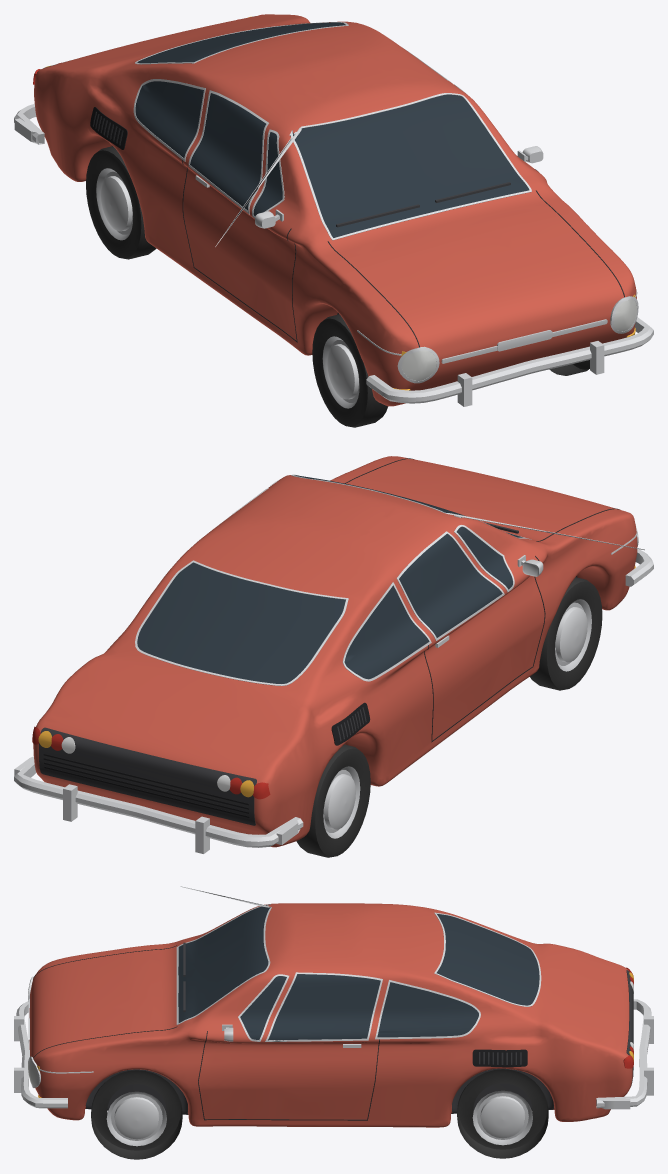
File: skoda110r.glb
The picture shows the model from 3 angles, top to bottom: view 1: azimuth 30°, elevation 25°; view 2: azimuth 150°, elevation 25°; view 3: azimuth 270°, elevation 25°; orthographic projection. The views are drawn at different scales.
Visible parts, largest first — view 1: paint, glass, trim, wheel_fr, wheel_rr, headlights; view 2: paint, glass, trim, wheel_rr, wheel_fr, taillights; view 3: paint, glass, trim, wheel_rl, wheel_fl.
Boxes of the visible parts, bbox=[...] form: paint: bbox=[34, 14, 636, 406]; glass: bbox=[135, 22, 528, 237]; trim: bbox=[14, 16, 653, 406]; wheel_fr: bbox=[312, 314, 388, 427]; wheel_rr: bbox=[86, 146, 156, 259]; headlights: bbox=[401, 299, 636, 380]; paint: bbox=[33, 456, 637, 847]; glass: bbox=[137, 475, 522, 683]; trim: bbox=[14, 458, 653, 853]; wheel_rr: bbox=[296, 744, 370, 857]; wheel_fr: bbox=[530, 577, 602, 690]; taillights: bbox=[32, 726, 270, 799]; paint: bbox=[29, 891, 632, 1127]; glass: bbox=[178, 905, 539, 1040]; trim: bbox=[14, 886, 653, 1120]; wheel_rl: bbox=[457, 1069, 548, 1158]; wheel_fl: bbox=[91, 1070, 182, 1159].
Bounding box in the file's own units: 2.16 × 1.35 × 4.2.
